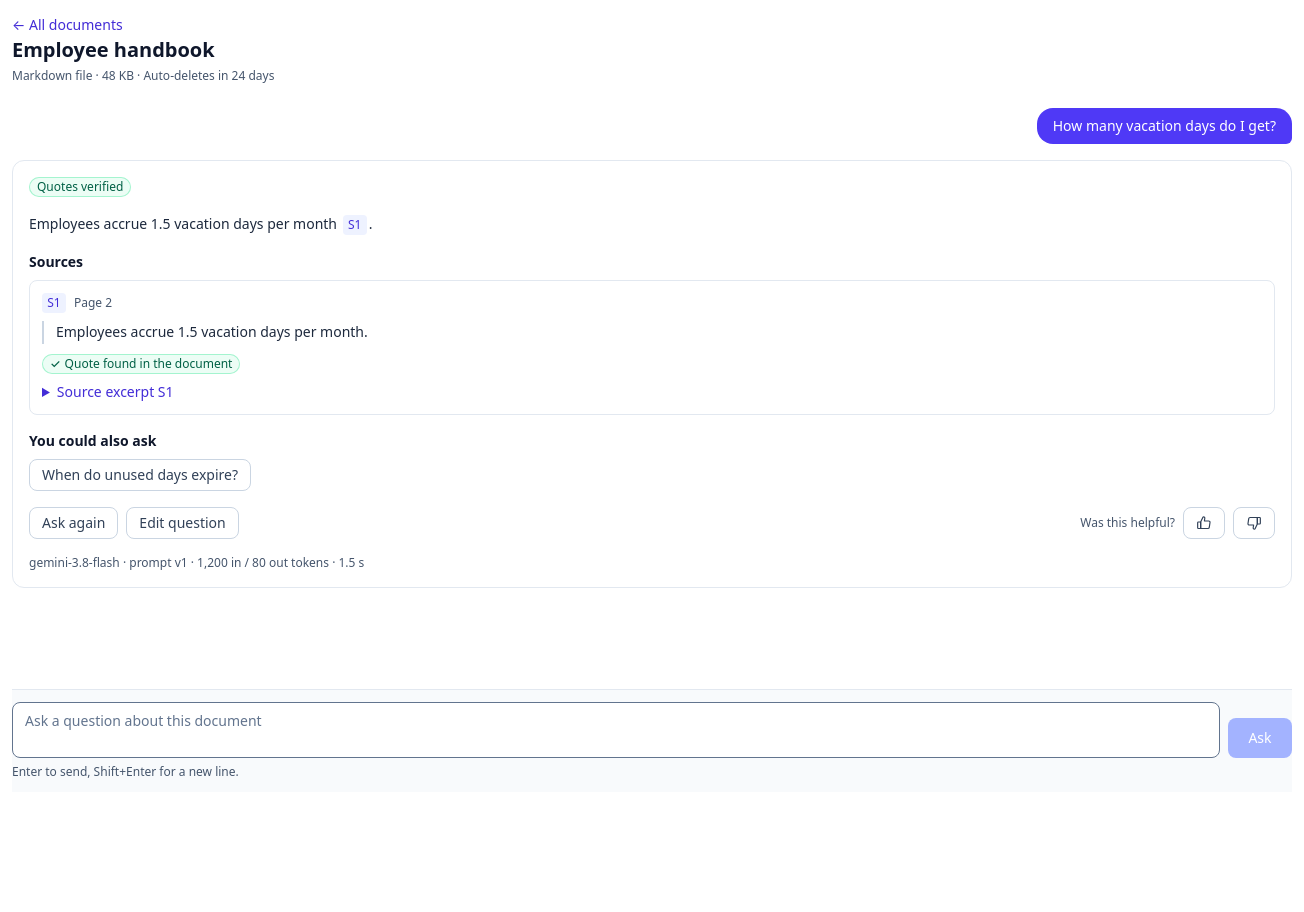
ChatView: a stored conversation › says when feedback could not be saved
This screenshot has width=1304, height=912.
Click the button named "Not helpful". click: (1254, 522)
box: [1233,506,1275,538]
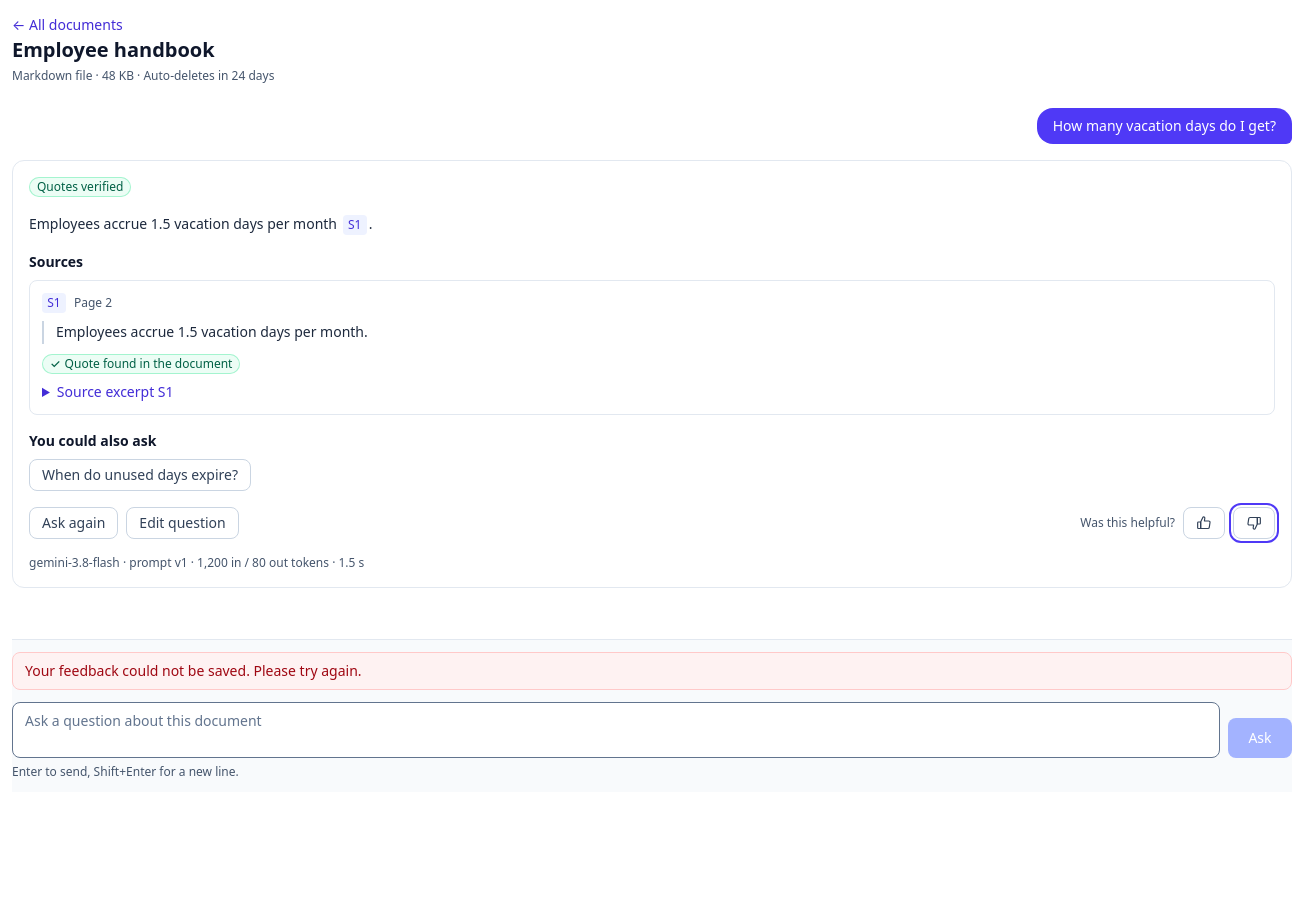
expect the message shows "Your feedback could not be saved": met, box [25,661,362,680]
